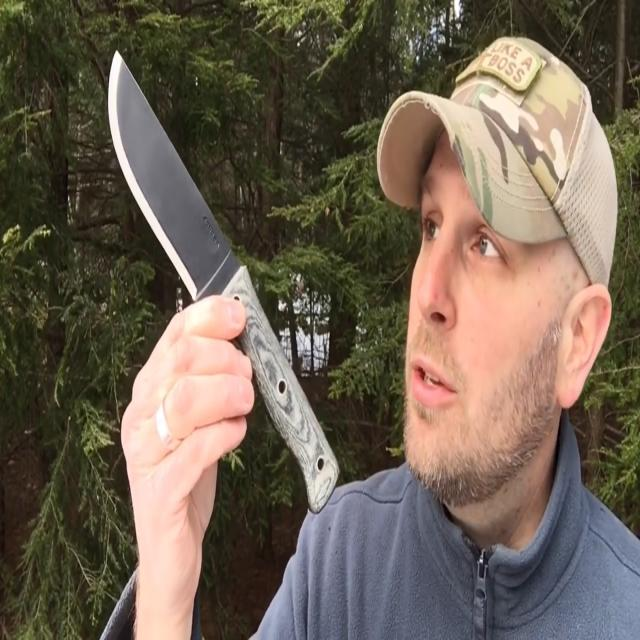knife: (103, 43, 344, 515)
